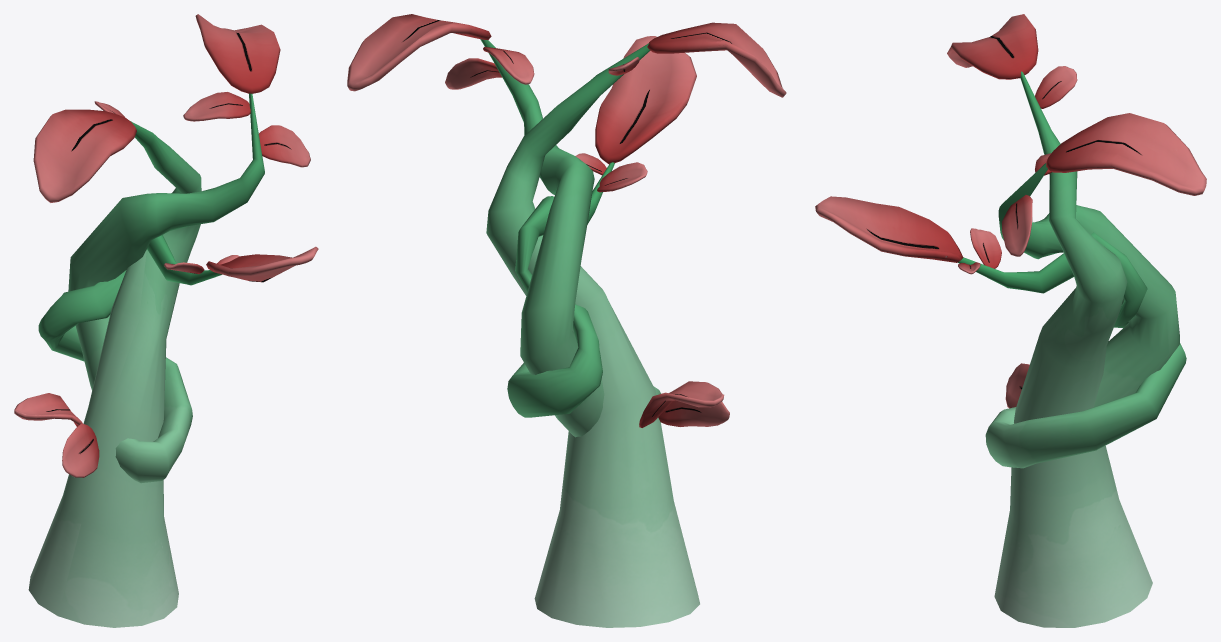
The model's file is Prop_cryo_plant_3.fbx.
3 views of the same model, side by side, from view 1: azimuth 30°, elevation 25°; view 2: azimuth 150°, elevation 25°; view 3: azimuth 270°, elevation 25° (orthographic). The views are drawn at different scales.
Visible parts, largest first — view 1: Plant 3; view 2: Plant 3; view 3: Plant 3.
Part boxes in pixels (x1,y1,x2,y2): Plant 3: [14, 14, 318, 627]; Plant 3: [347, 14, 786, 627]; Plant 3: [815, 14, 1206, 627].
Bounding box in the file's own units: 27.03 × 25.44 × 41.78.
